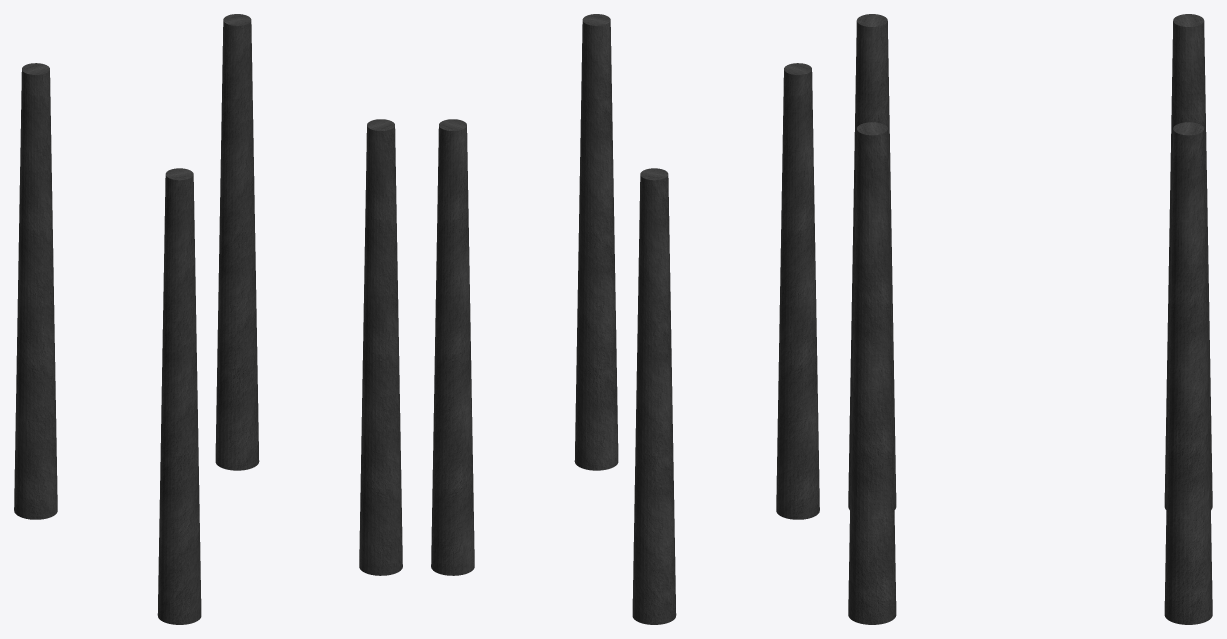
Rendered from coal_stacks.obj.
3 renders of one model, left to right at view 1: azimuth 30°, elevation 25°; view 2: azimuth 150°, elevation 25°; view 3: azimuth 270°, elevation 25°, orthographic. The views are drawn at different scales.
Visible parts, largest first — view 1: Cylinder; view 2: Cylinder; view 3: Cylinder.
Boxes of the visible parts, left/top/right/bottom form: Cylinder: left=14, top=14, right=402, bottom=624; Cylinder: left=431, top=14, right=819, bottom=624; Cylinder: left=848, top=14, right=1212, bottom=624.
Size of the model in its own units: 15.7 by 27.68 by 18.81.
1 material, 1 textured.
